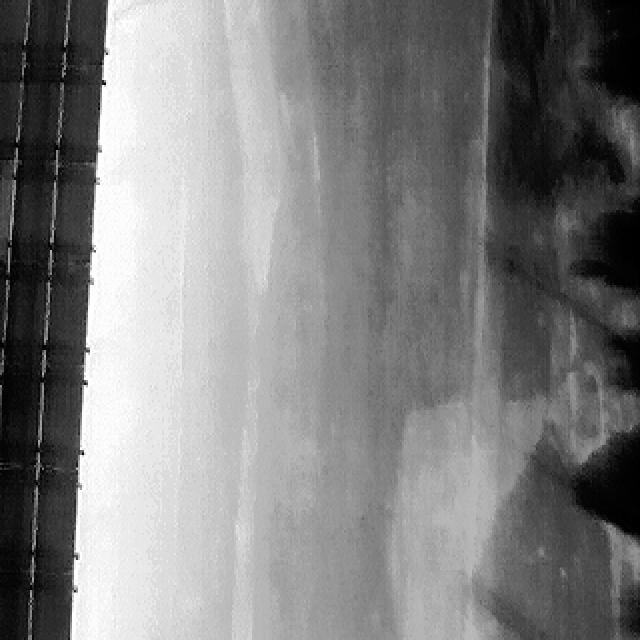PV-modules: (42, 360, 87, 469), (35, 471, 78, 577), (9, 163, 52, 267), (44, 269, 89, 368), (57, 70, 102, 168), (54, 166, 97, 268), (3, 264, 45, 368), (0, 361, 40, 468), (16, 71, 59, 165), (0, 465, 35, 571), (24, 0, 68, 71), (28, 572, 72, 640), (64, 0, 107, 67), (0, 572, 30, 640), (0, 0, 24, 80), (0, 74, 20, 163), (0, 162, 15, 274)
